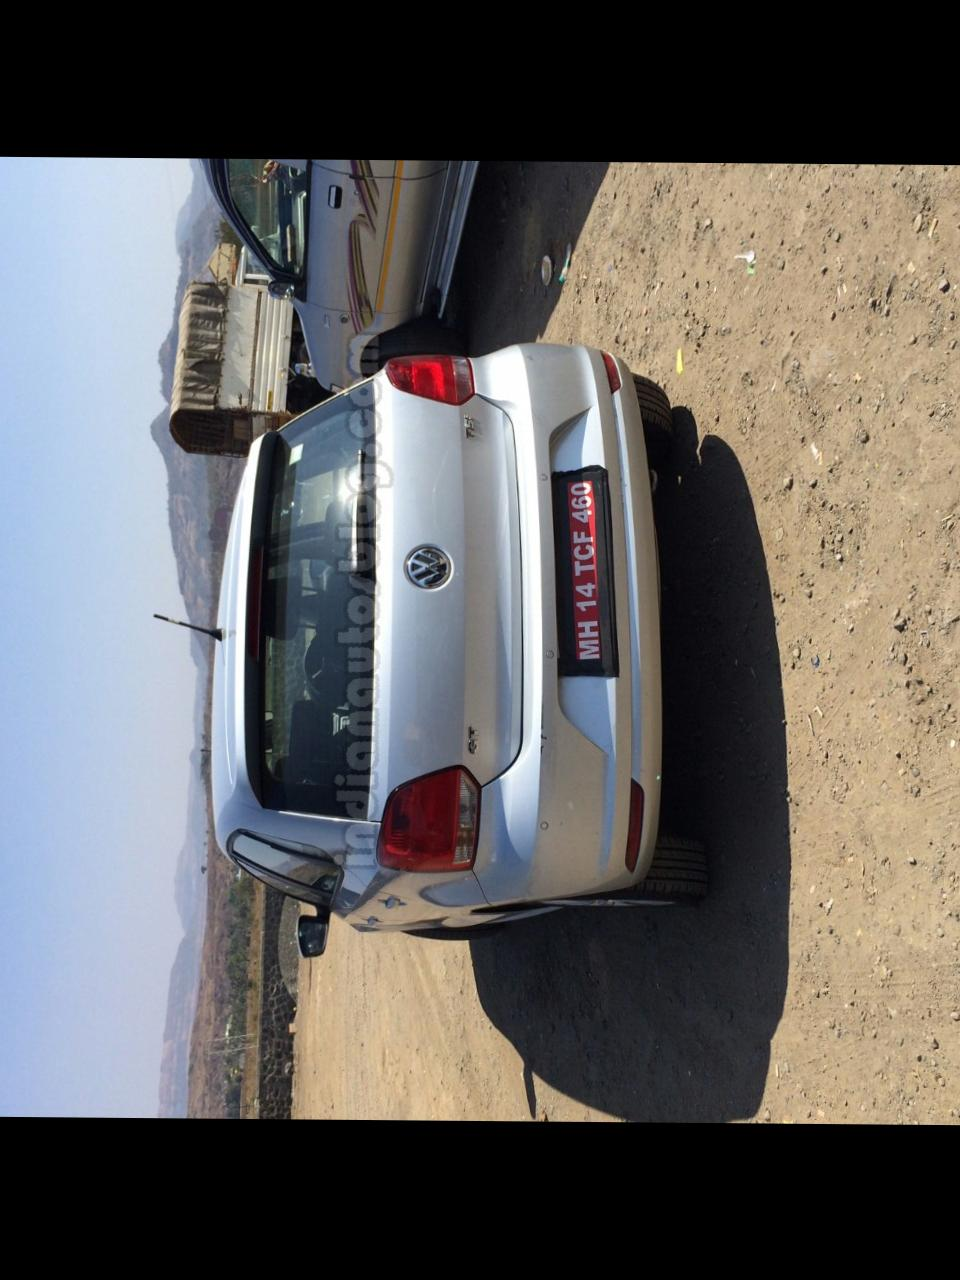plate: (545, 454, 630, 679)
